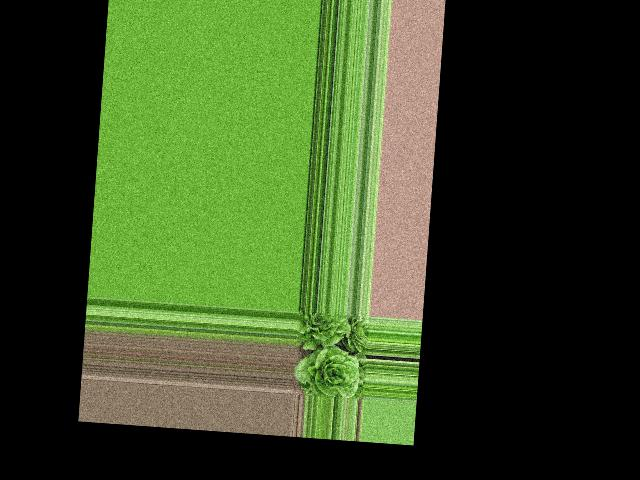lettuce: (297, 310, 351, 348)
